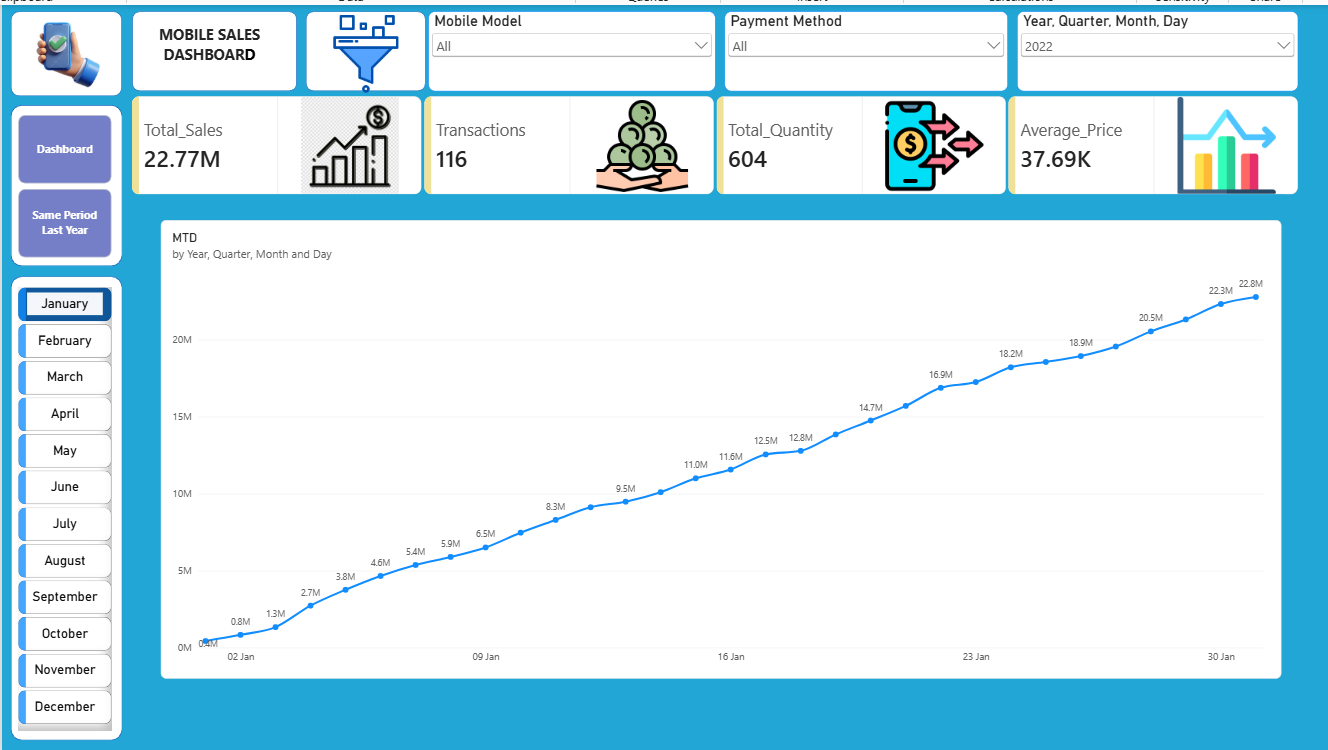

The dashboard page shown, as its layout file describes it:
{"tool":"powerbi","page":{"name":"MTD Report","canvas":[1920,1080],"ordinal":1},"visuals":[{"type":"shape","box":[12.7,9,161.1,123.1],"z":0},{"type":"image","box":[0,12.7,188.2,115.8],"z":1000},{"type":"shape","box":[12,145.6,161.5,233.3],"z":2000},{"type":"shape","box":[12,392.9,161.5,672],"z":3000},{"type":"cardVisual","fields":{"Data":["Sales_data.Total_Sales","Sales_data.Transactions","Sales_data.Total_Quantity","Sales_data.Average_Price"]},"box":[188.2,132.1,1688.4,143],"z":5000},{"type":"slicer","fields":{"Values":["Sales_data.Mobile Model"]},"box":[617.1,9,416.2,115.8],"z":6000},{"type":"slicer","fields":{"Values":["Sales_data.Payment Method"]},"box":[1046,9,410.8,115.8],"z":7000},{"type":"slicer","fields":{"Values":["Custum_Calender.Date.Variation.Date Hierarchy.Year","Custum_Calender.Date.Variation.Date Hierarchy.Quarter","Custum_Calender.Date.Variation.Date Hierarchy.Month","Custum_Calender.Date.Variation.Date Hierarchy.Day"]},"box":[1469.4,9,407.2,115.8],"z":8000},{"type":"shape","box":[439.7,9,173.7,115.8],"z":9000},{"type":"image","box":[456,12.7,141.2,115.8],"z":10000},{"type":"shape","box":[188.2,9,238.9,115.8],"z":11000},{"type":"textbox","box":[217.2,28,166.5,92.3],"z":12000},{"type":"lineChart","fields":{"Y":["Sales_data.MTD"],"Category":["Custum_Calender.Date.Variation.Date Hierarchy.Year","Custum_Calender.Date.Variation.Date Hierarchy.Quarter","Custum_Calender.Date.Variation.Date Hierarchy.Month","Custum_Calender.Date.Variation.Date Hierarchy.Day"]},"box":[230.2,311.3,1622.6,664.2],"z":12001},{"type":"advancedSlicerVisual","fields":{"Values":["Custum_Calender.Date.Variation.Date Hierarchy.Month"]},"box":[23.5,409,135.7,642.4],"z":12002},{"type":"pageNavigator","box":[22.6,158.5,135.8,207.5],"z":12003}]}

Visuals, with their boxes in screenshot pixels (x1, y1, x2, y2), scaled from the page's 1920x1080 canvas onto the 1328x750 screenshot:
shape: bbox(9, 6, 120, 92)
image: bbox(0, 9, 130, 89)
shape: bbox(8, 101, 120, 263)
shape: bbox(8, 273, 120, 740)
cardVisual - Sales_data.Total_Sales x Sales_data.Transactions: bbox(130, 92, 1298, 191)
slicer - Sales_data.Mobile Model: bbox(427, 6, 715, 87)
slicer - Sales_data.Payment Method: bbox(723, 6, 1008, 87)
slicer - Custum_Calender.Date.Variation.Date Hierarchy.Year x Custum_Calender.Date.Variation.Date Hierarchy.Quarter: bbox(1016, 6, 1298, 87)
shape: bbox(304, 6, 424, 87)
image: bbox(315, 9, 413, 89)
shape: bbox(130, 6, 295, 87)
textbox: bbox(150, 19, 265, 84)
lineChart - Sales_data.MTD x Custum_Calender.Date.Variation.Date Hierarchy.Year: bbox(159, 216, 1282, 677)
advancedSlicerVisual - Custum_Calender.Date.Variation.Date Hierarchy.Month: bbox(16, 284, 110, 730)
pageNavigator: bbox(16, 110, 110, 254)
